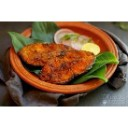seerfish: (41, 50, 95, 82), (20, 45, 72, 67)
